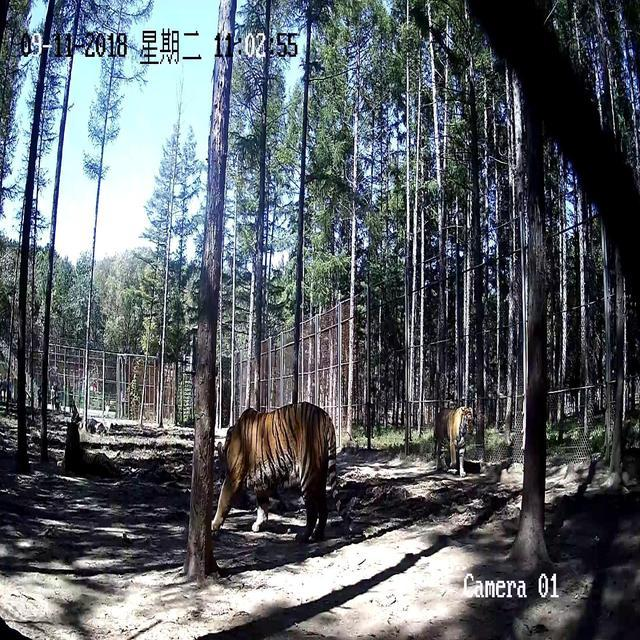tiger: (210, 400, 338, 542), (432, 405, 474, 477)
